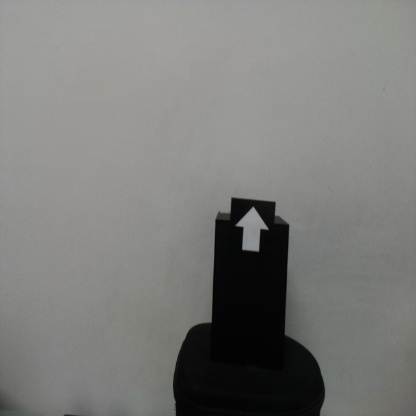id_1: (230, 201, 276, 266)
